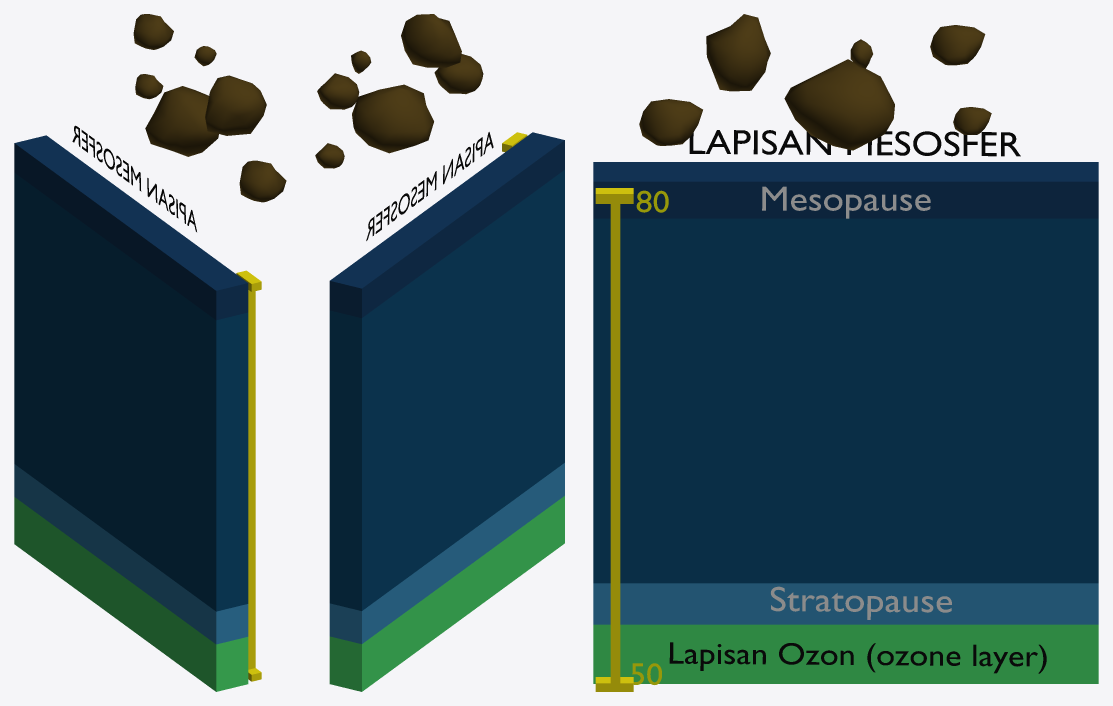
Rendered from mesosfer.fbx.
3 views of the same model, side by side, from view 1: azimuth 30°, elevation 25°; view 2: azimuth 150°, elevation 25°; view 3: azimuth 270°, elevation 25° (orthographic). The views are drawn at different scales.
Visible parts, largest first — view 1: Cube, Icosphere.003, Cube.001, Text.003; view 2: Cube, Icosphere.003, Text.003; view 3: Cube, Icosphere.003, Cube.001, Text.003, Text, Text.001, Text.002.
Part boxes in pixels (box(x1,y1,x2,y2)): Cube: box(14, 135, 248, 691); Icosphere.003: box(133, 14, 286, 202); Cube.001: box(236, 270, 261, 681); Text.003: box(72, 125, 196, 231); Cube: box(329, 132, 564, 691); Icosphere.003: box(315, 14, 483, 168); Text.003: box(366, 132, 493, 240); Cube: box(593, 162, 1098, 683); Icosphere.003: box(639, 14, 991, 150); Cube.001: box(595, 188, 633, 691); Text.003: box(689, 130, 1020, 156); Text: box(669, 642, 1046, 673); Text.001: box(771, 586, 951, 619); Text.002: box(762, 186, 930, 218).
Bounding box in the file's own units: 198 × 993 × 655.
